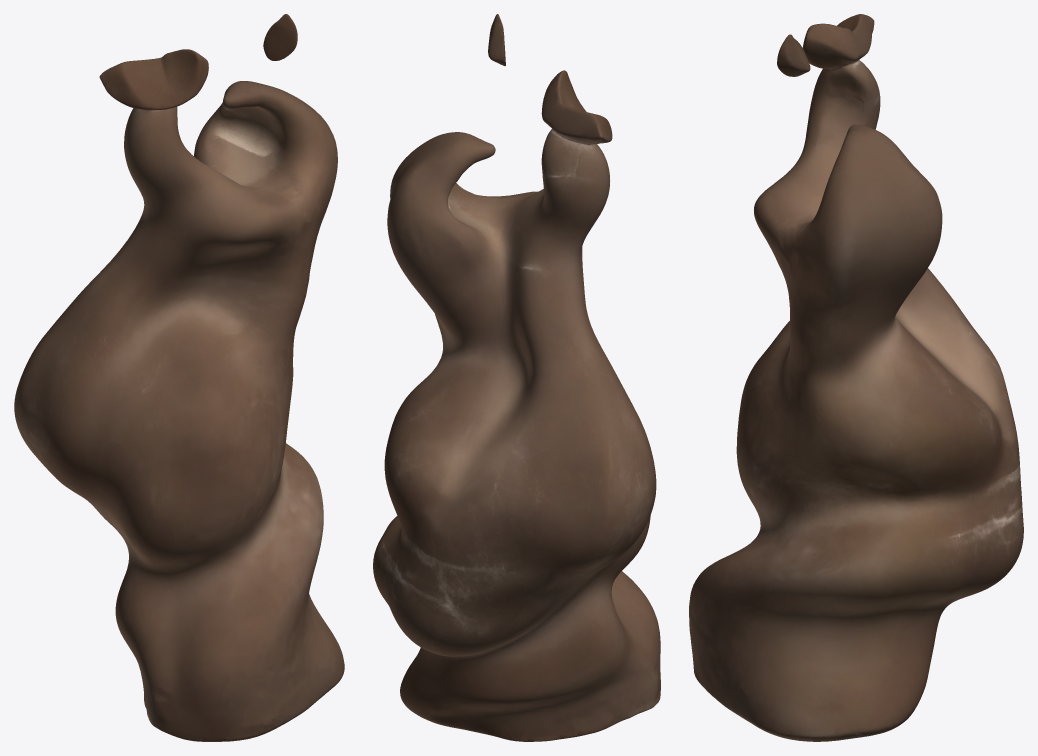
File: skulptur-pilot.glb
3 views of the same model, side by side, from view 1: azimuth 30°, elevation 25°; view 2: azimuth 150°, elevation 25°; view 3: azimuth 270°, elevation 25° (orthographic).
Size of the model in its own units: 0.806 by 1.9 by 0.8395.
1 material, 1 textured.
